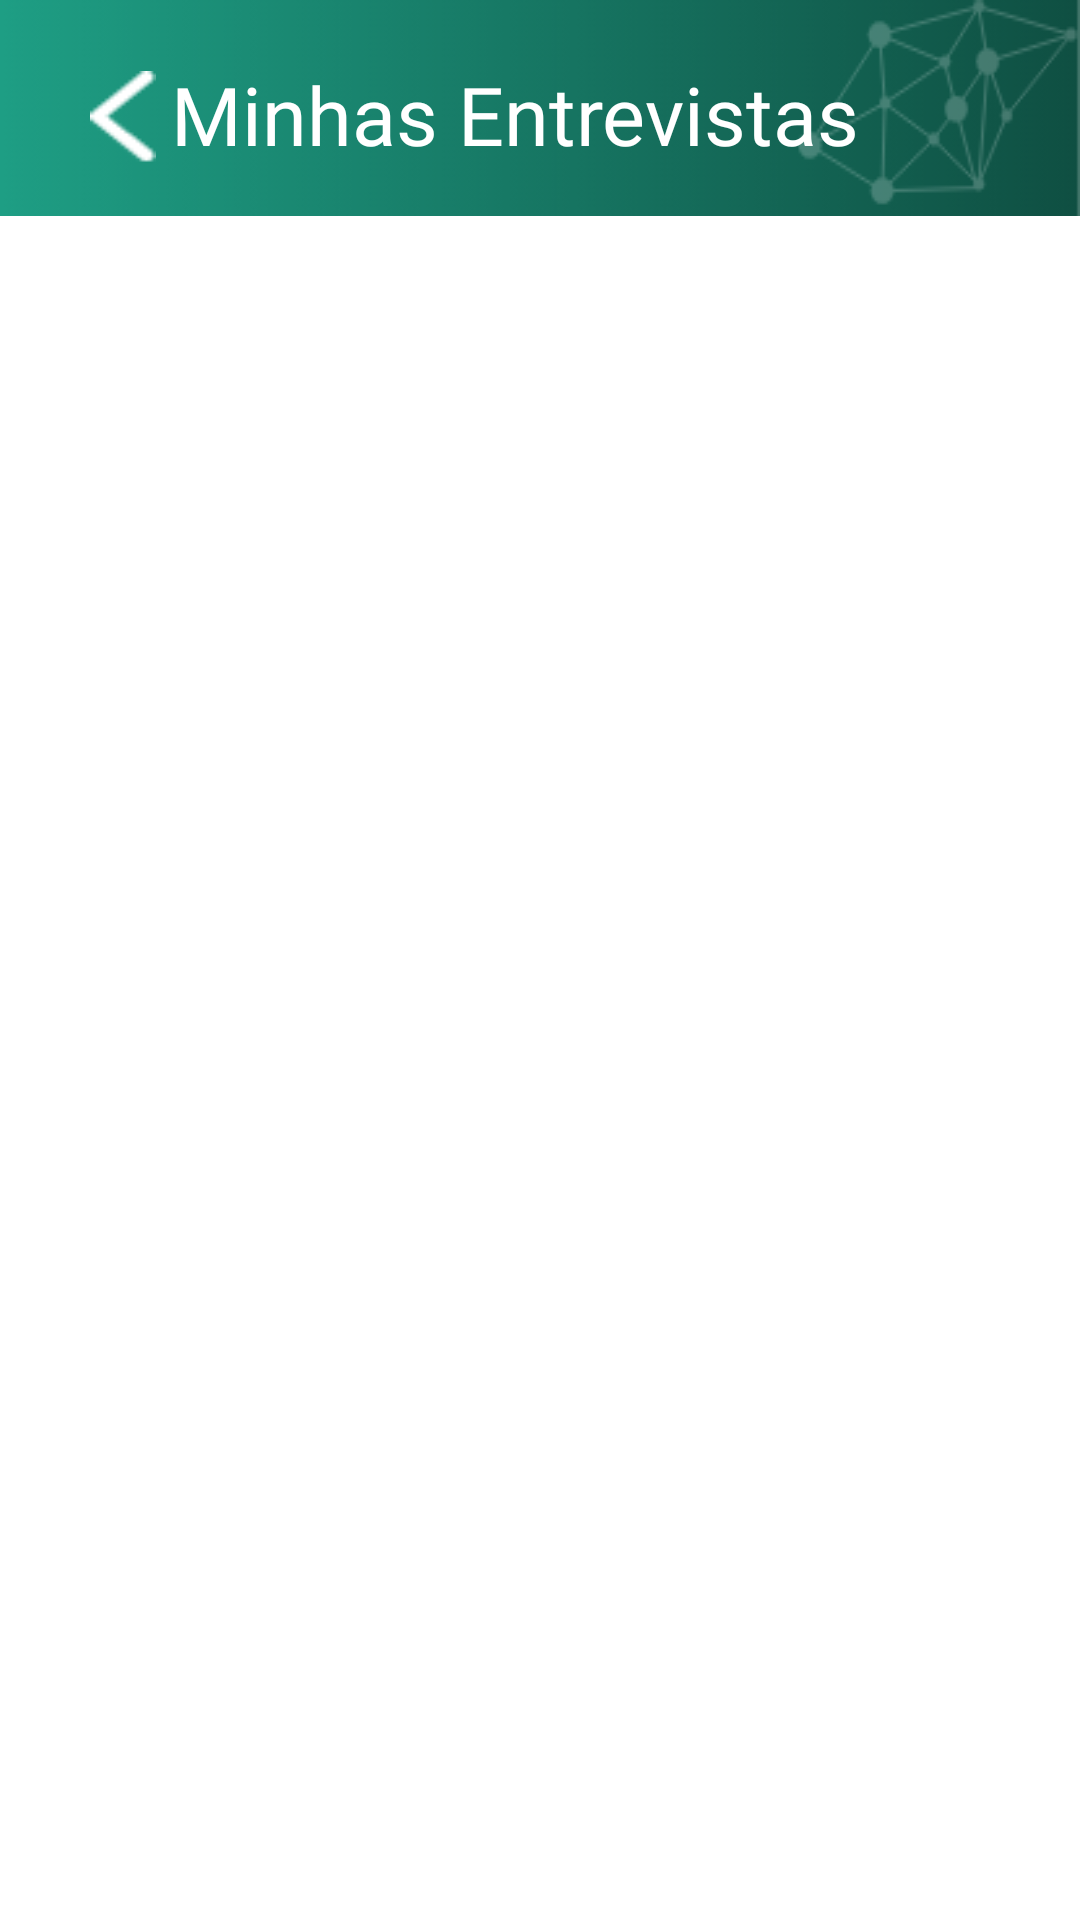

Icon bounding boxes for this 1080px×1920px phone screenshot, format (x1, y1, x2, y2):
back arrow: (90, 71, 156, 162)
